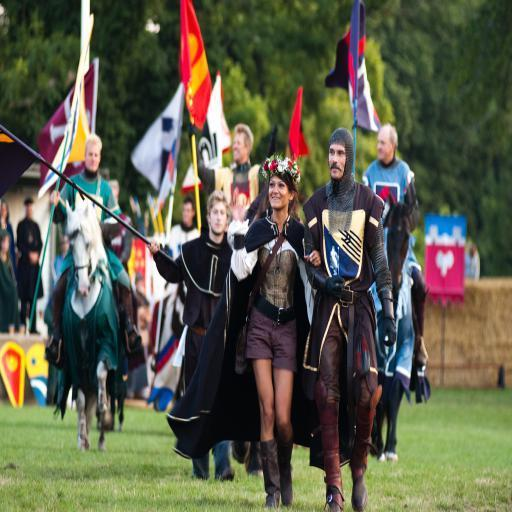horse: (61, 197, 119, 452)
